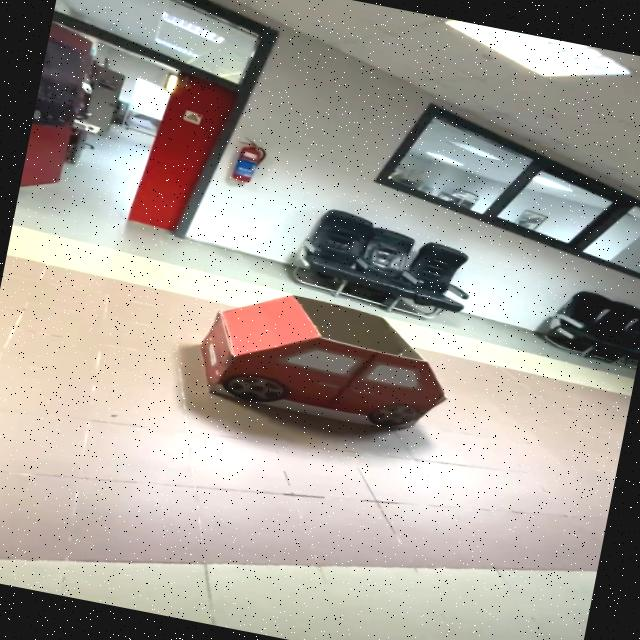red_car: (164, 267, 471, 461)
